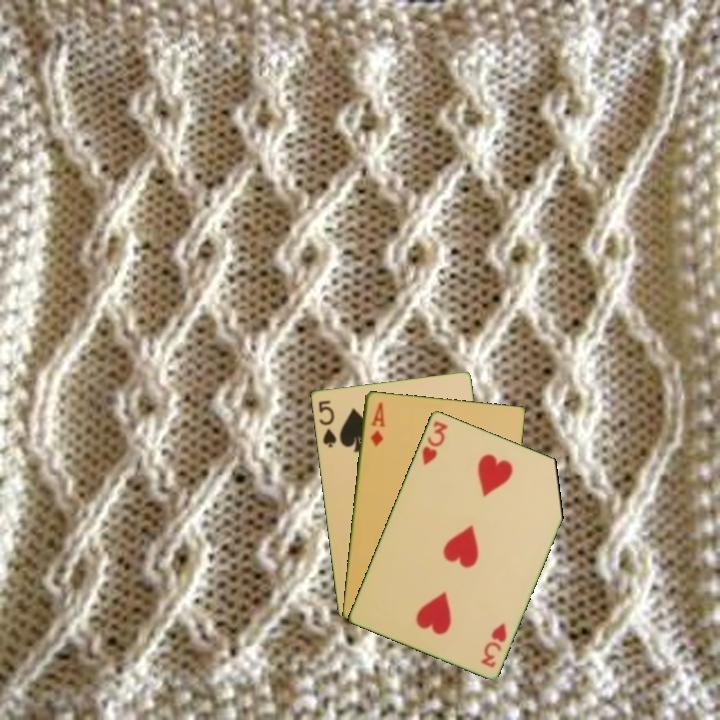3h: (477, 619, 510, 670), (418, 417, 450, 468)
5s: (315, 396, 339, 450)
Ad: (367, 399, 387, 449)
